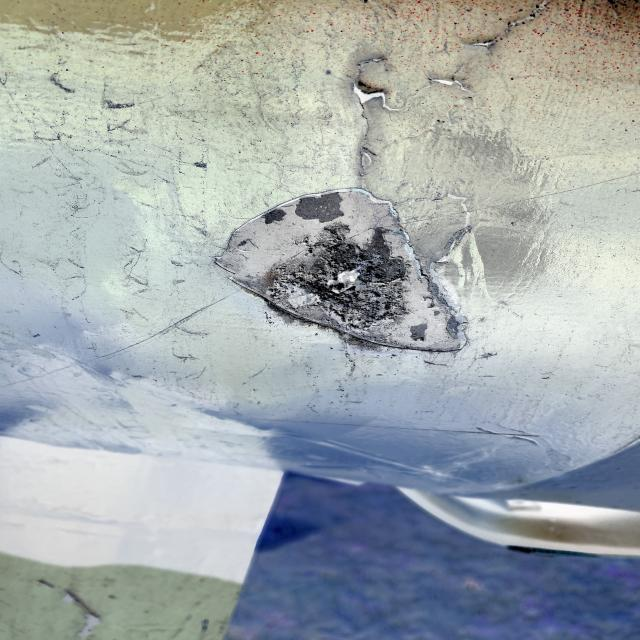crack: (346, 75, 427, 128), (451, 25, 548, 51), (421, 68, 483, 105)
dent: (211, 170, 464, 370)
